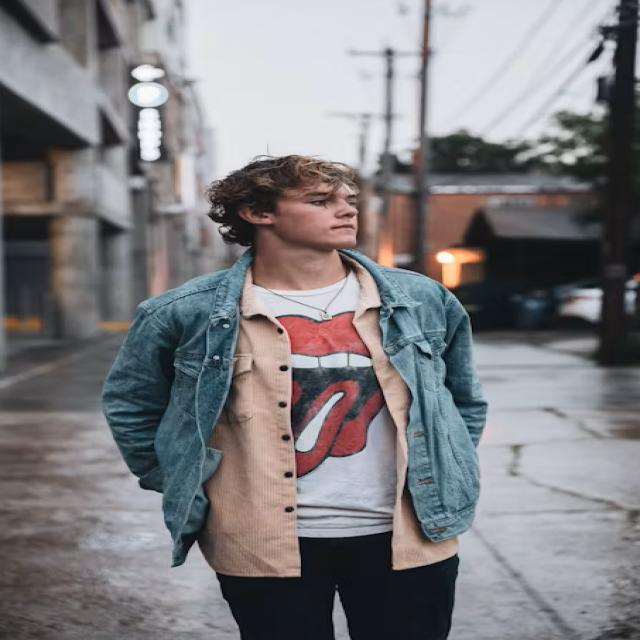Edited images: (90, 150, 504, 640)
